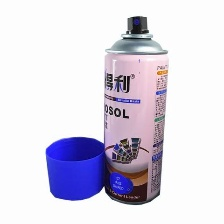aerosol_cans: (100, 8, 171, 209)
